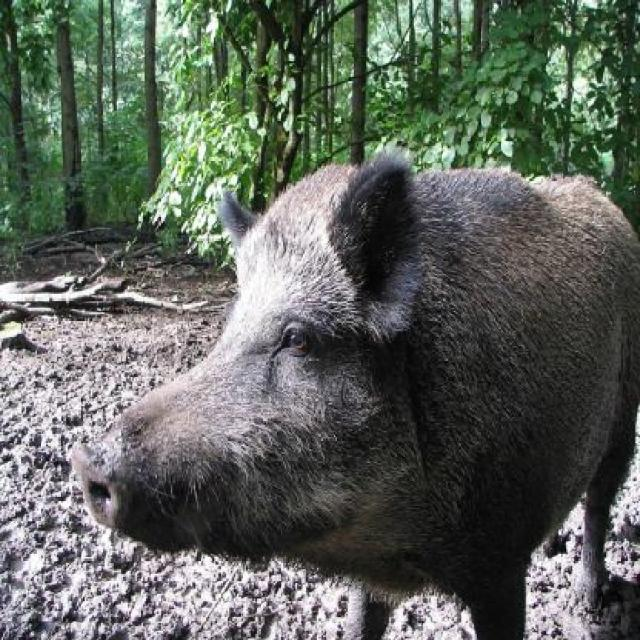wildboar: (66, 149, 640, 640)
